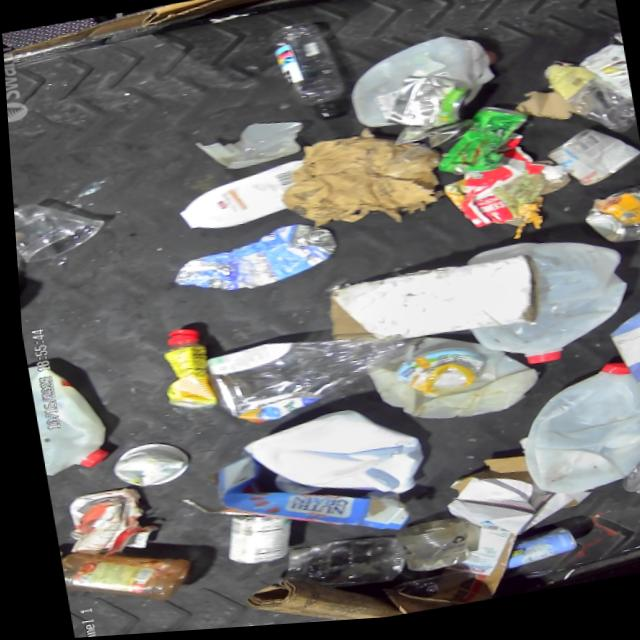can: (425, 106, 534, 185), (538, 127, 640, 199), (213, 508, 291, 571), (573, 190, 640, 258), (63, 494, 121, 539)
milk_jug: (452, 232, 633, 379), (232, 401, 424, 521), (357, 324, 541, 435), (503, 362, 640, 508), (342, 33, 503, 135), (22, 355, 105, 476)
plastic_bottle: (199, 324, 410, 431), (267, 20, 349, 130), (539, 60, 635, 151)
